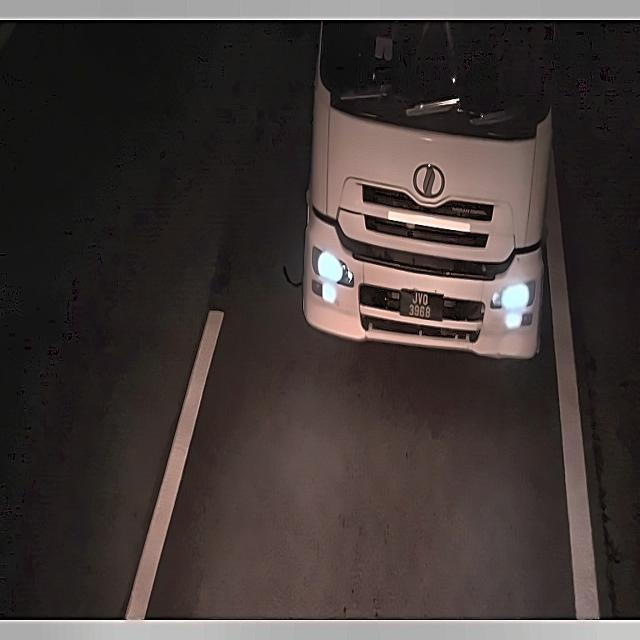car: (394, 280, 446, 327)
